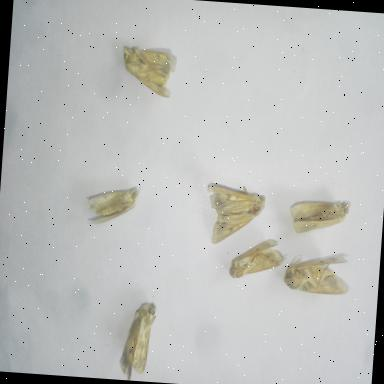abw: (200, 182, 268, 250), (280, 245, 352, 301), (115, 296, 161, 382), (118, 42, 178, 102), (225, 234, 290, 286), (284, 192, 353, 240), (82, 180, 142, 232)
